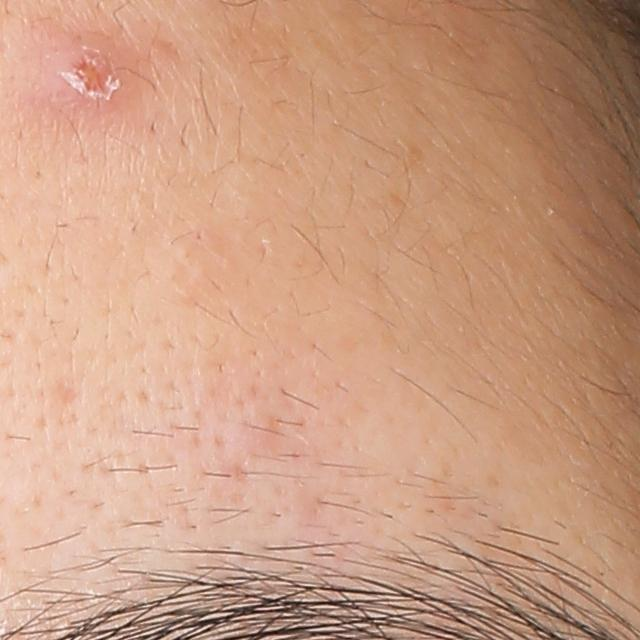atrophic_scar: (55, 375, 90, 409)
papule: (27, 33, 131, 113)
